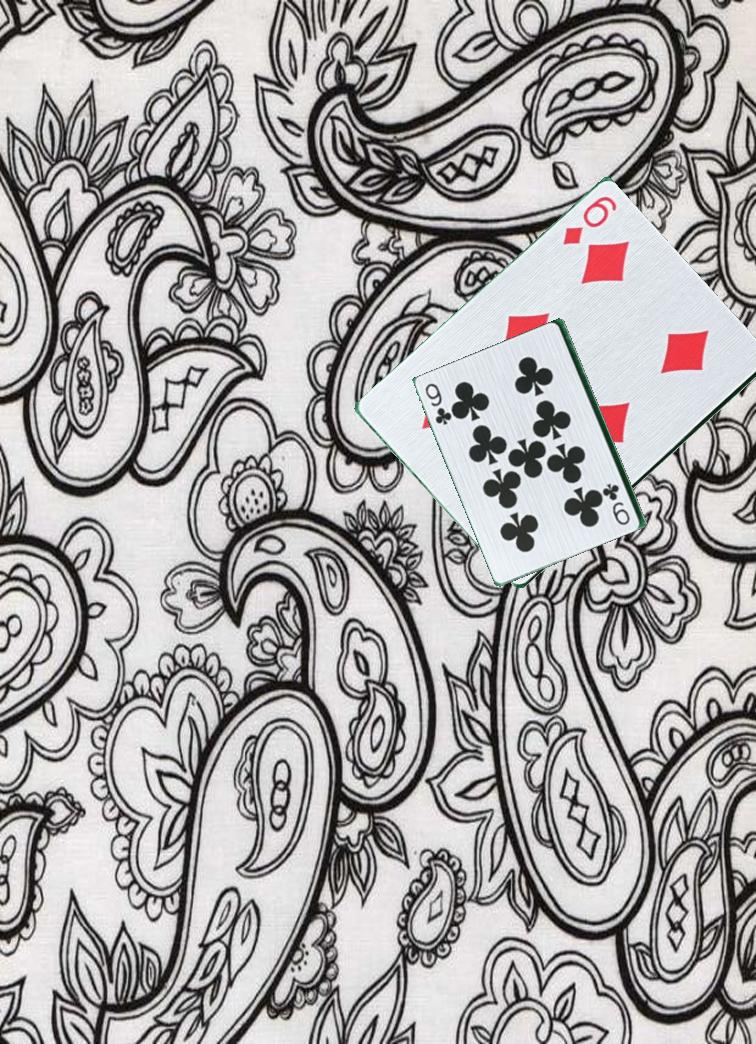6d: (559, 191, 620, 249)
9c: (422, 380, 458, 431), (603, 480, 633, 528)
